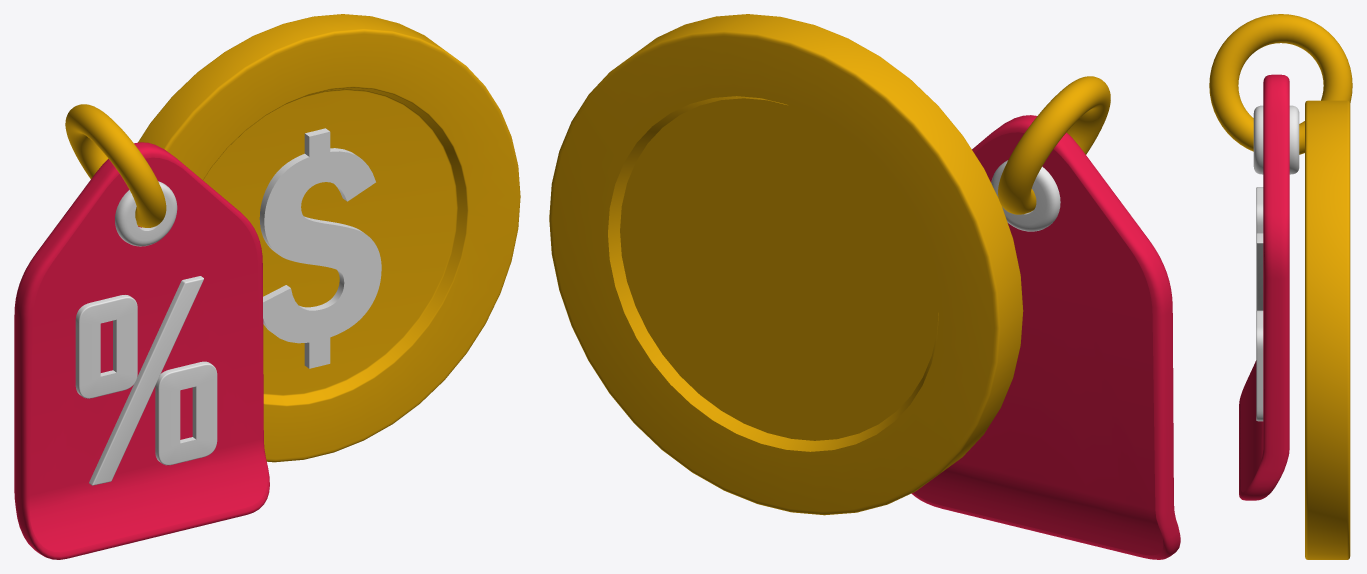
Rendered from discount-tag-1678222834766.glb.
3 views of the same model, side by side, from view 1: azimuth 30°, elevation 25°; view 2: azimuth 150°, elevation 25°; view 3: azimuth 270°, elevation 25° (orthographic). The views are drawn at different scales.
Visible parts, largest first — view 1: dollar2_main, paymentdiscount_main.001; view 2: dollar2_main, paymentdiscount_main.001; view 3: paymentdiscount_main.001, dollar2_main.
Part boxes in pixels (x1=…): dollar2_main: x1=138, y1=14, x2=520, y2=462; paymentdiscount_main.001: x1=14, y1=104, x2=269, y2=559; dollar2_main: x1=549, y1=14, x2=1023, y2=515; paymentdiscount_main.001: x1=911, y1=76, x2=1180, y2=559; paymentdiscount_main.001: x1=1209, y1=14, x2=1352, y2=500; dollar2_main: x1=1305, y1=100, x2=1350, y2=559.
Bounding box in the file's own units: 2.35 × 1.86 × 0.57.
